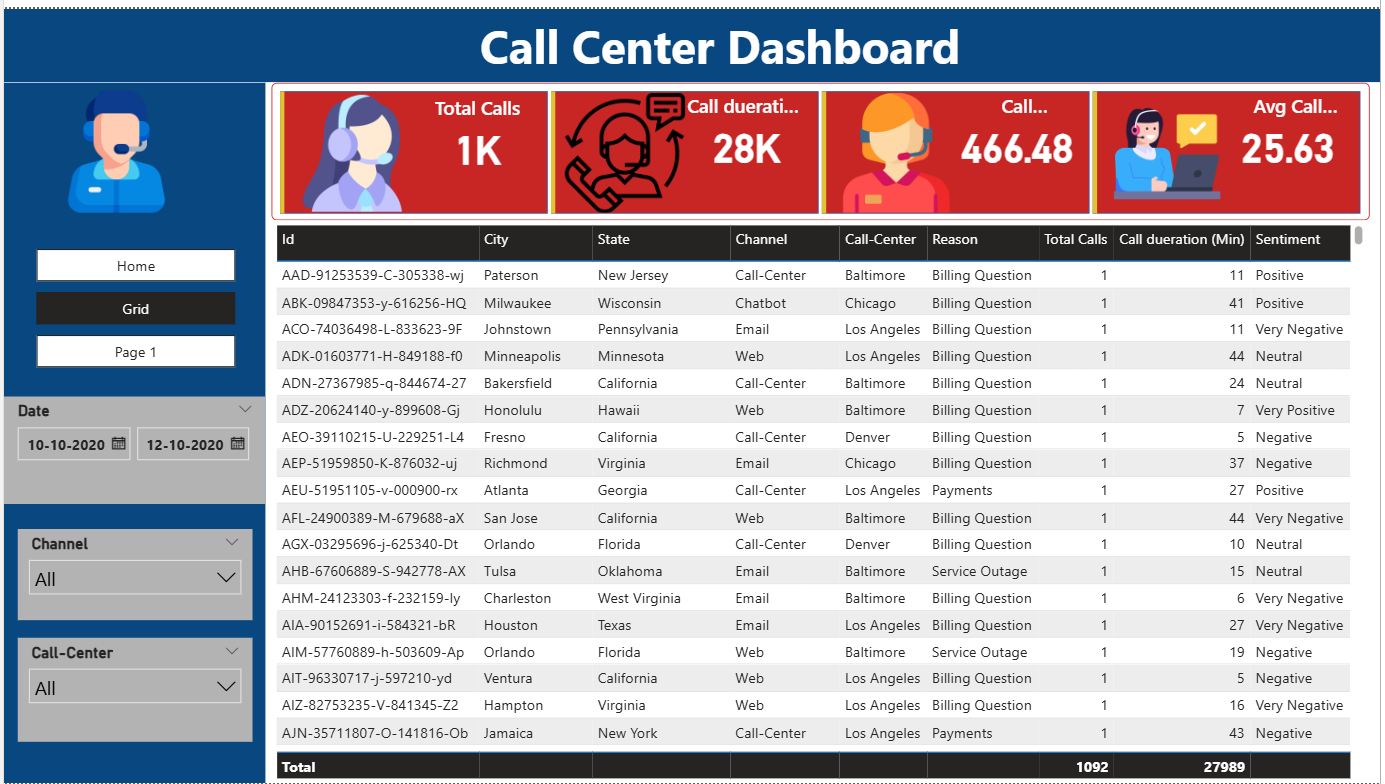

Layout of this report page (visuals, bound fields, positions):
{"tool":"powerbi","page":{"name":"Grid","canvas":[1280,720],"ordinal":1},"visuals":[{"type":"shape","box":[0,0,1280,68.3],"z":0},{"type":"shape","box":[0,68.3,243.2,651.7],"z":1000},{"type":"cardVisual","fields":{"Data":["Call Center_Call Center.Total Calls","Call Center_Call Center.Call dueration (Min)","Call Center_Call Center.Total Call duration(Hrs)","Call Center_Call Center.Avg Call Duration (Min)"]},"box":[248.3,68.3,1021.7,128.3],"z":2000},{"type":"textbox","box":[301.7,0,730,85],"z":3000},{"type":"image","box":[43.3,68.3,123.3,128.3],"z":4000},{"type":"pageNavigator","box":[30,223.3,185,111.7],"z":5000},{"type":"slicer","fields":{"Values":["Date Table.Date"]},"box":[0,360,243.3,100],"z":6000},{"type":"slicer","fields":{"Values":["Call Center_Call Center.Channel"]},"box":[13.3,483.3,218.3,85],"z":7000},{"type":"slicer","fields":{"Values":["Call Center_Call Center.Call-Center"]},"box":[13.3,585,218.3,96.7],"z":8000},{"type":"tableEx","fields":{"Values":["Call Center_Call Center.Id","Call Center_Call Center.City","Call Center_Call Center.State","Call Center_Call Center.Channel","Call Center_Call Center.Call-Center","Call Center_Call Center.Reason","Call Center_Call Center.Total Calls","Call Center_Call Center.Call dueration (Min)","Call Center_Call Center.Sentiment"]},"box":[248,196,1022,524],"z":9000}]}

Visuals, with their boxes in screenshot pixels (x1, y1, x2, y2), scaled from the page's 1280x720 canvas onto the 1385x784 screenshot:
shape: (0,0,1384,74)
shape: (0,74,263,783)
cardVisual - Call Center_Call Center.Total Calls x Call Center_Call Center.Call dueration (Min): (269,74,1374,214)
textbox: (326,0,1116,93)
image: (47,74,180,214)
pageNavigator: (32,243,233,365)
slicer - Date Table.Date: (0,392,263,501)
slicer - Call Center_Call Center.Channel: (14,526,251,619)
slicer - Call Center_Call Center.Call-Center: (14,637,251,742)
tableEx - Call Center_Call Center.Id x Call Center_Call Center.City: (268,213,1374,783)
